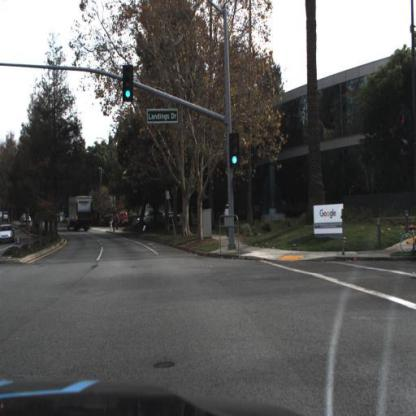car: (1, 225, 16, 243)
pedestrian: (225, 203, 230, 240)
trafficLight-Green: (124, 64, 134, 101), (229, 134, 240, 167)
truck: (68, 194, 96, 236)
